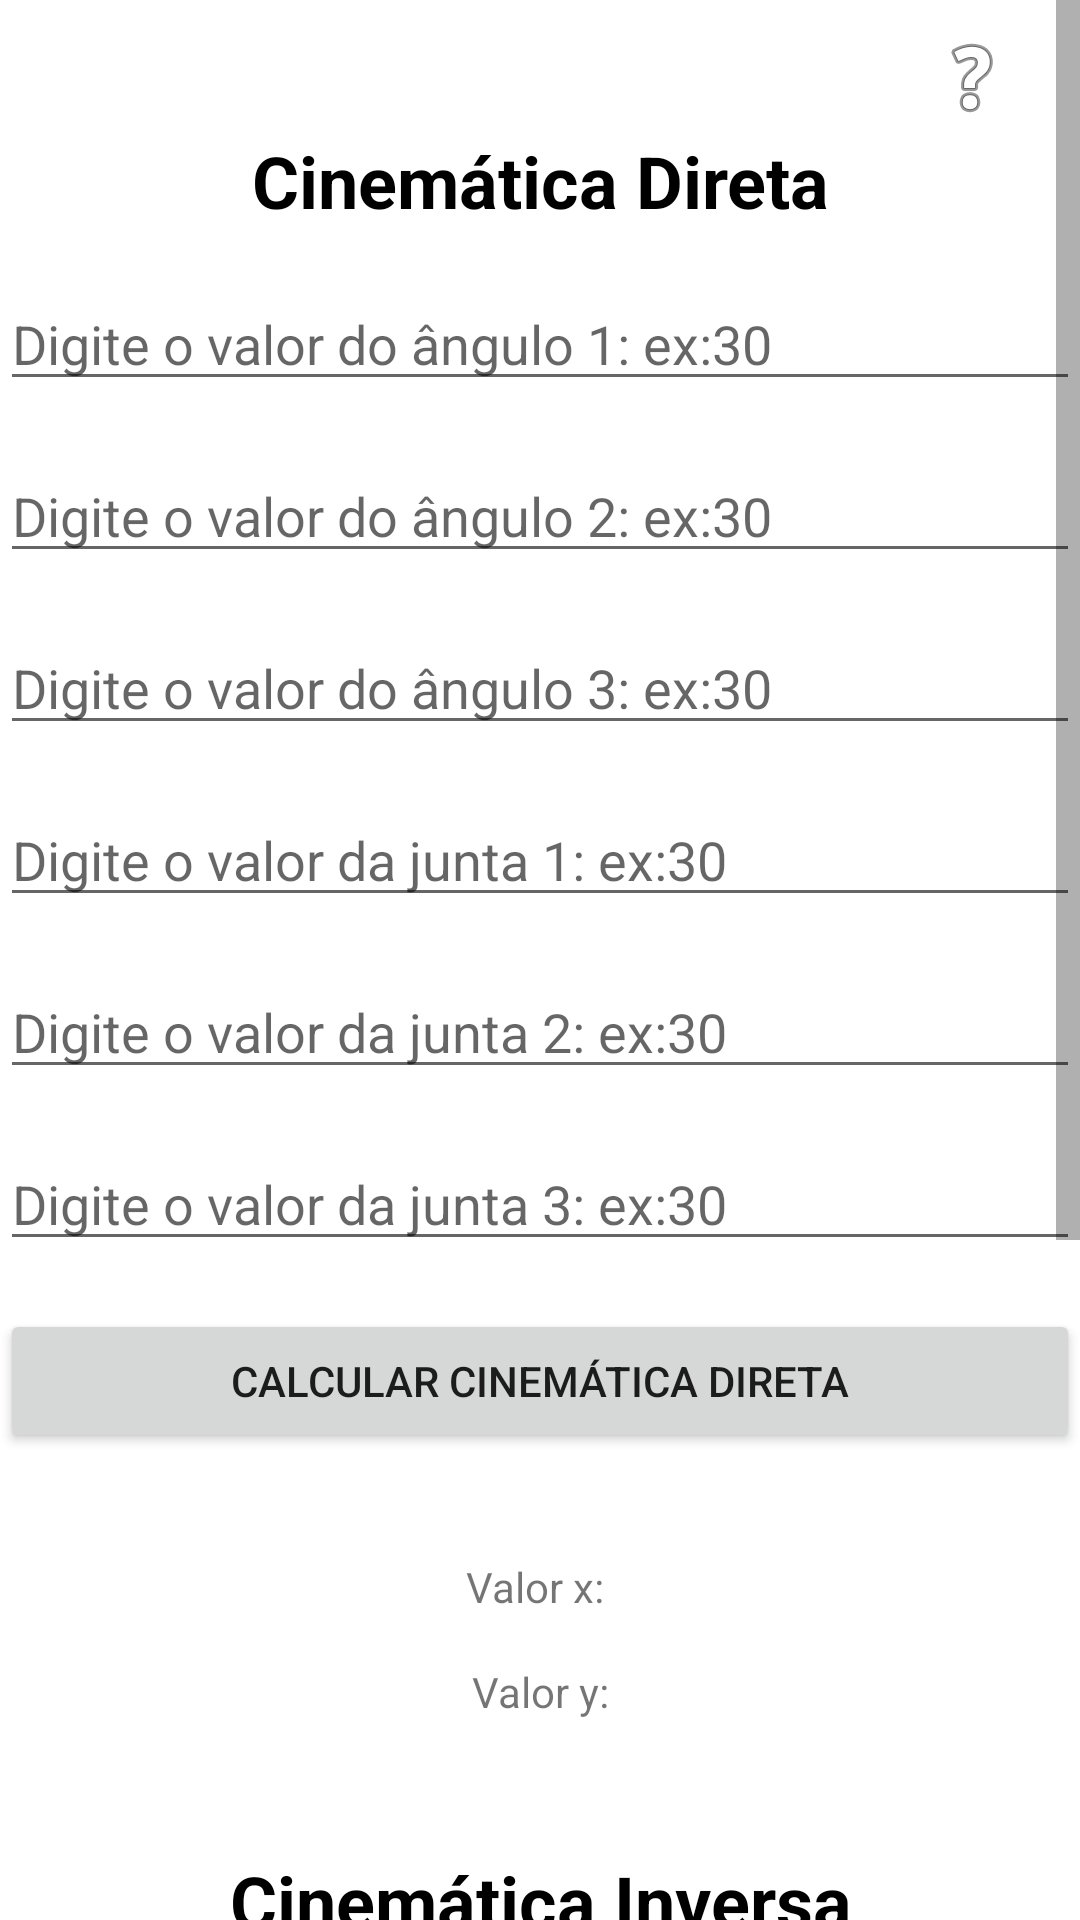

Screen size 1080w x 1920h. Icon name, then its box in pixels as (x1, y1, x2, y2):
help: (951, 44, 993, 112)
